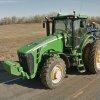Tractor: (11, 8, 100, 86)
